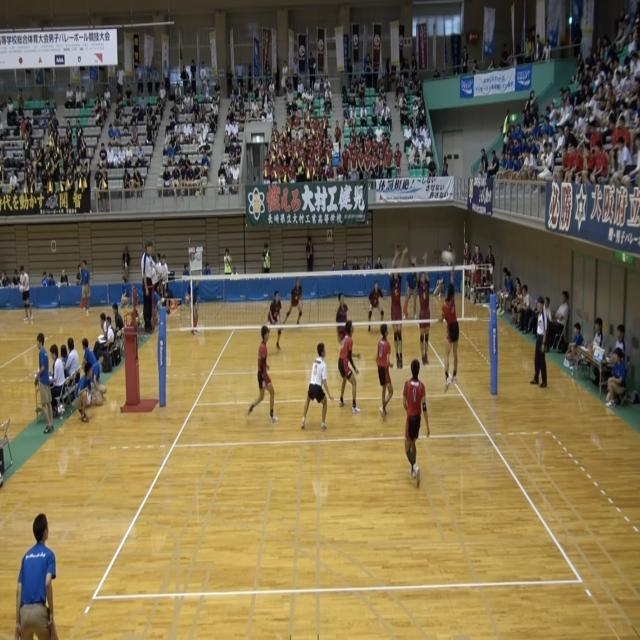spike: (432, 242, 463, 394)
